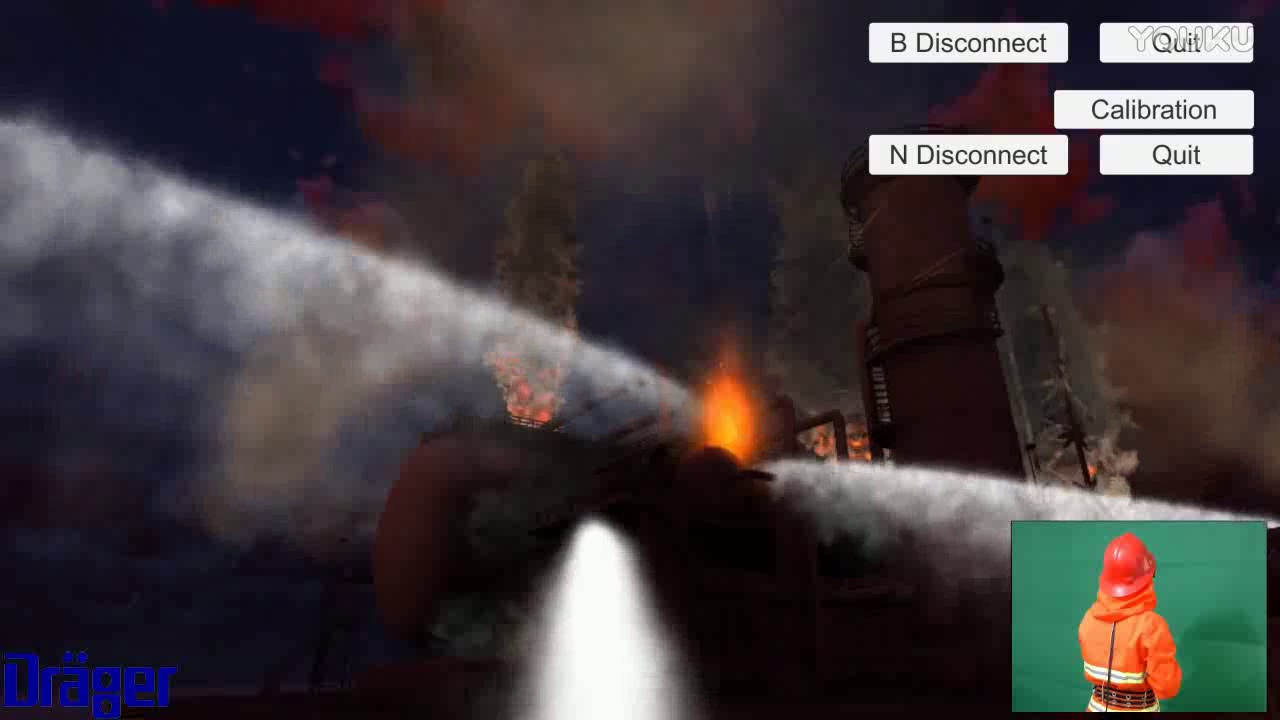fire: (698, 325, 761, 469)
